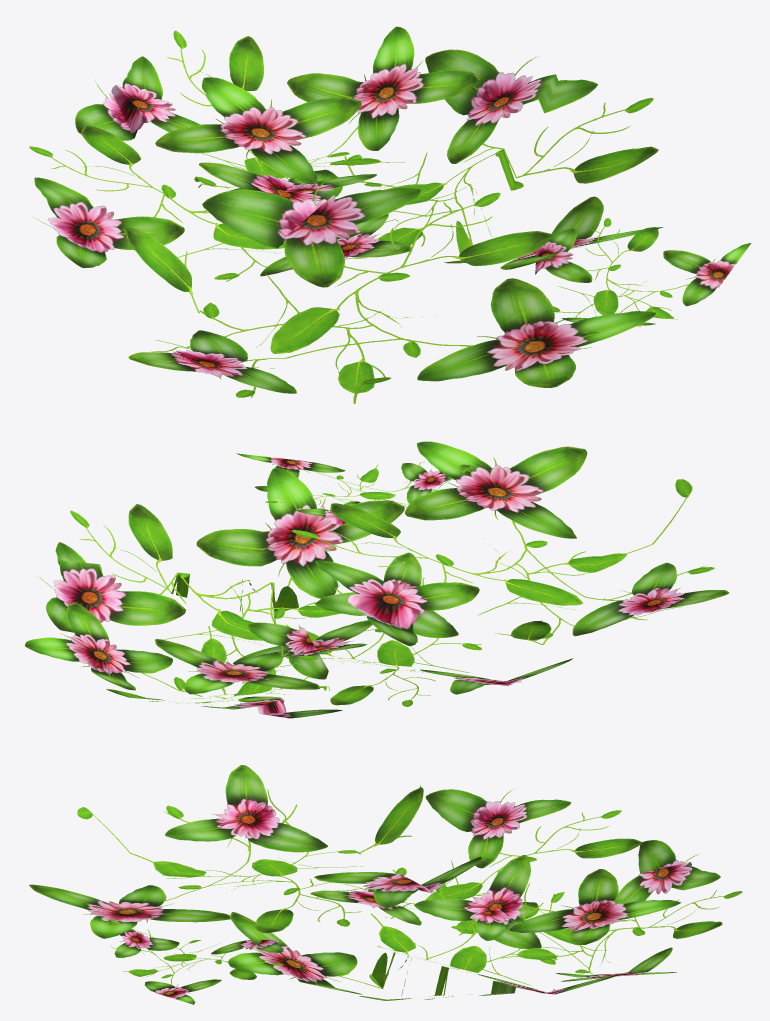
The model's file is leafplant8_lod2.fbx.
3 renders of one model, top to bottom at view 1: azimuth 30°, elevation 25°; view 2: azimuth 150°, elevation 25°; view 3: azimuth 270°, elevation 25°, orthographic. The views are drawn at different scales.
Visible parts, largest first — view 1: Mesh Object; view 2: Mesh Object; view 3: Mesh Object.
Boxes of the visible parts, x1=… form: Mesh Object: x1=29, y1=26, x2=751, y2=403; Mesh Object: x1=25, y1=441, x2=728, y2=718; Mesh Object: x1=29, y1=765, x2=742, y2=1004.
Size of the model in its own units: 2.19 by 0.3313 by 2.58.
